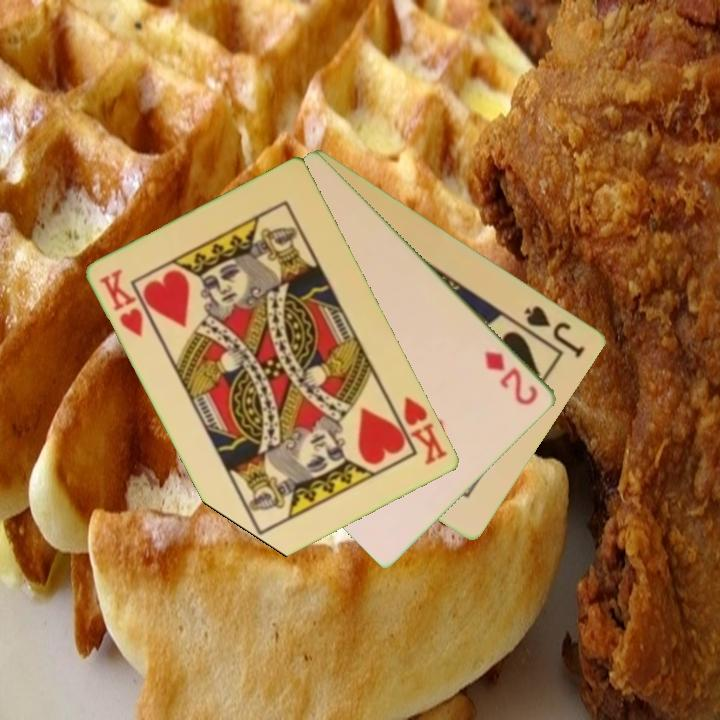2d: (482, 347, 542, 408)
Js: (521, 301, 589, 361)
Kh: (387, 393, 451, 468), (96, 265, 147, 340)
